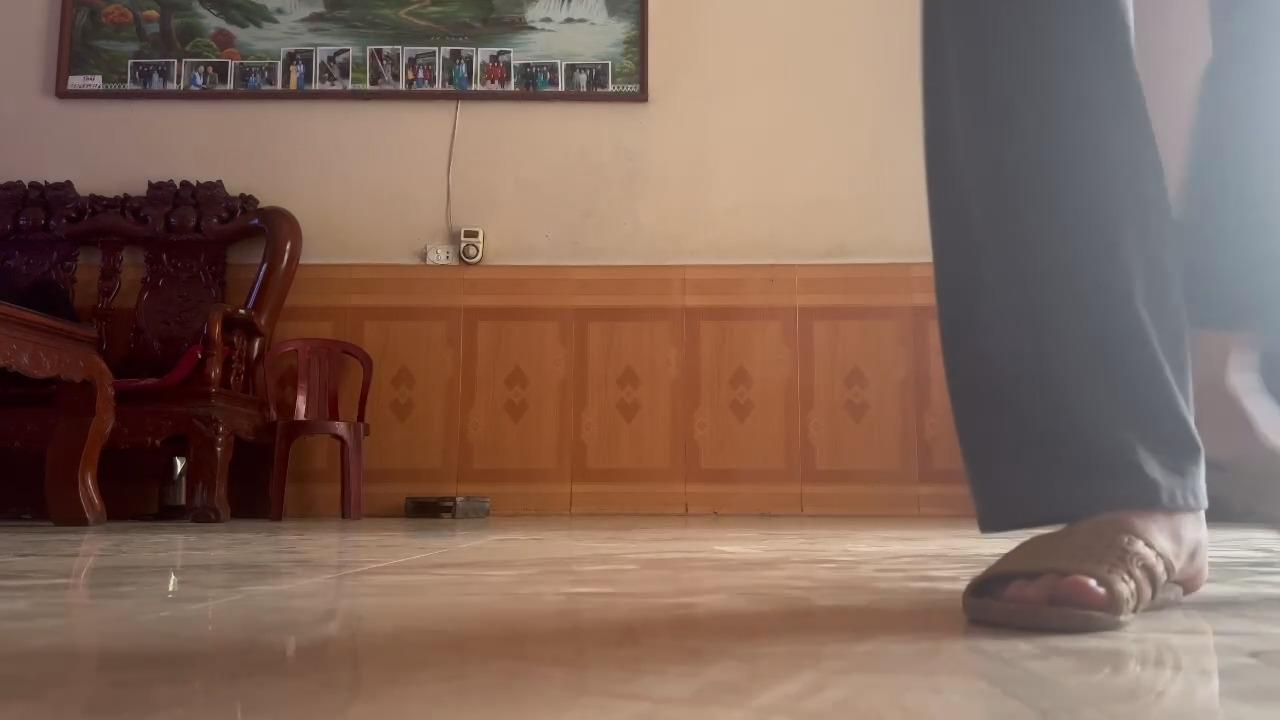no-boot: (956, 520, 1214, 640)
